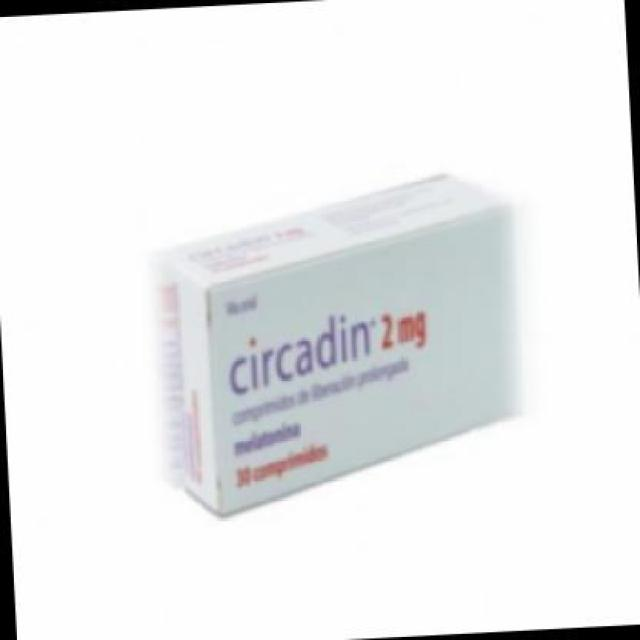box: (150, 177, 528, 515)
